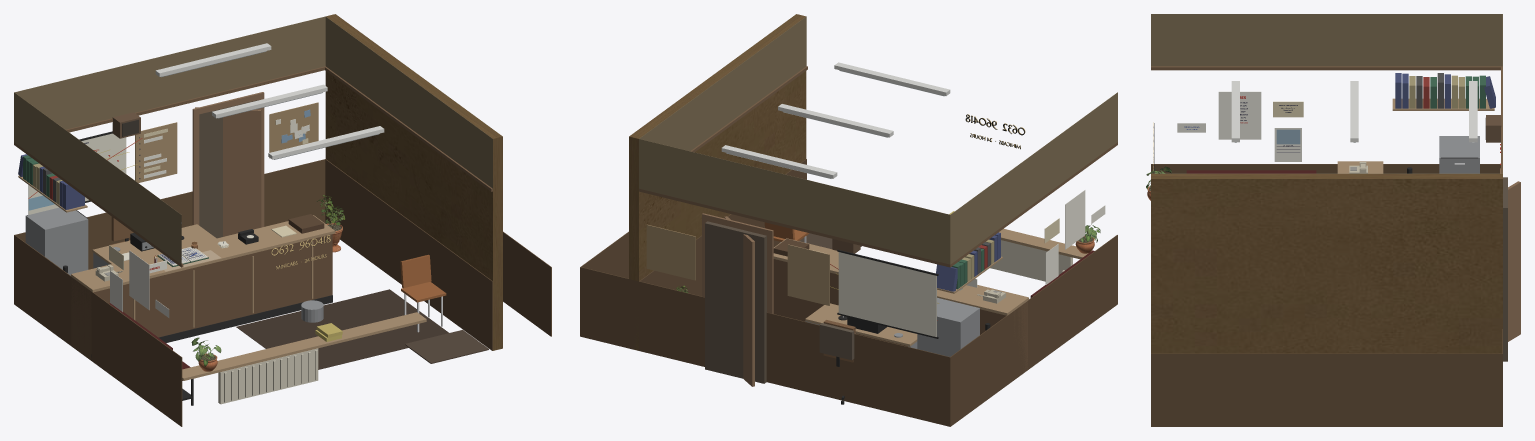
File: fittings.glb
3 renders of one model, left to right at view 1: azimuth 30°, elevation 25°; view 2: azimuth 150°, elevation 25°; view 3: azimuth 270°, elevation 25°, orthographic. The views are drawn at different scales.
Parts seen in each view (by area): view 1: mickeys_fittings; view 2: mickeys_fittings; view 3: mickeys_fittings.
Part boxes in pixels (x1,y1,x2,y2): mickeys_fittings: (14, 14, 551, 426); mickeys_fittings: (580, 14, 1117, 426); mickeys_fittings: (1146, 14, 1520, 426).
Bounding box in the file's own units: 5.3 × 3.08 × 4.42.
Materials: 68 (6 with a texture image).
